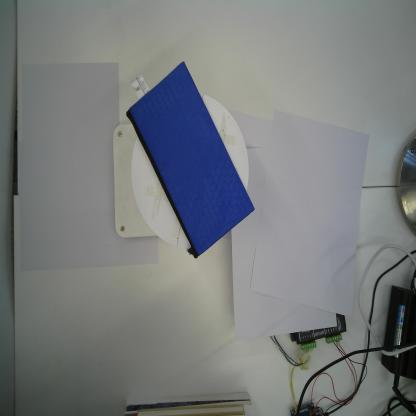Stationery: (126, 60, 256, 260)
